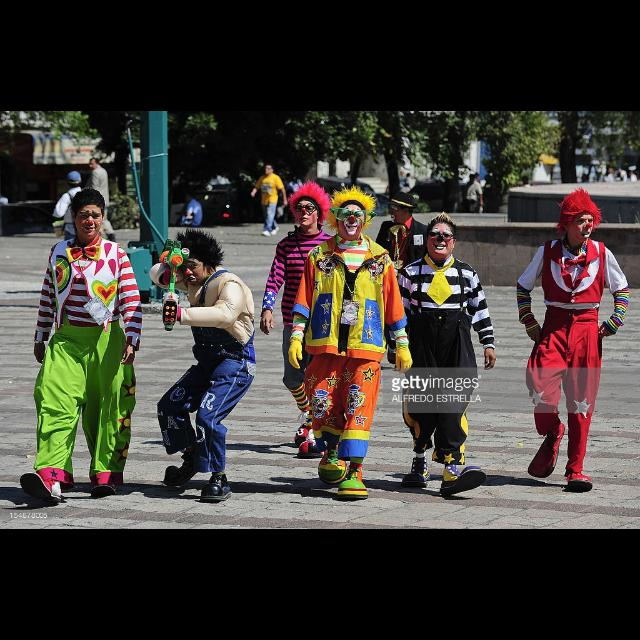head: (70, 189, 106, 239), (178, 247, 216, 287), (562, 198, 596, 242), (337, 200, 368, 242), (426, 218, 458, 258), (294, 192, 322, 228), (388, 198, 414, 224), (68, 171, 82, 189), (90, 158, 100, 170), (264, 163, 274, 175), (184, 192, 194, 202), (469, 174, 476, 182)
person: (17, 186, 145, 504), (286, 186, 414, 502), (513, 186, 631, 494), (385, 212, 499, 496), (148, 227, 258, 503), (260, 178, 354, 456), (370, 190, 436, 372), (52, 171, 92, 293), (82, 157, 118, 246), (251, 162, 289, 238), (173, 190, 204, 232), (462, 173, 484, 227)
